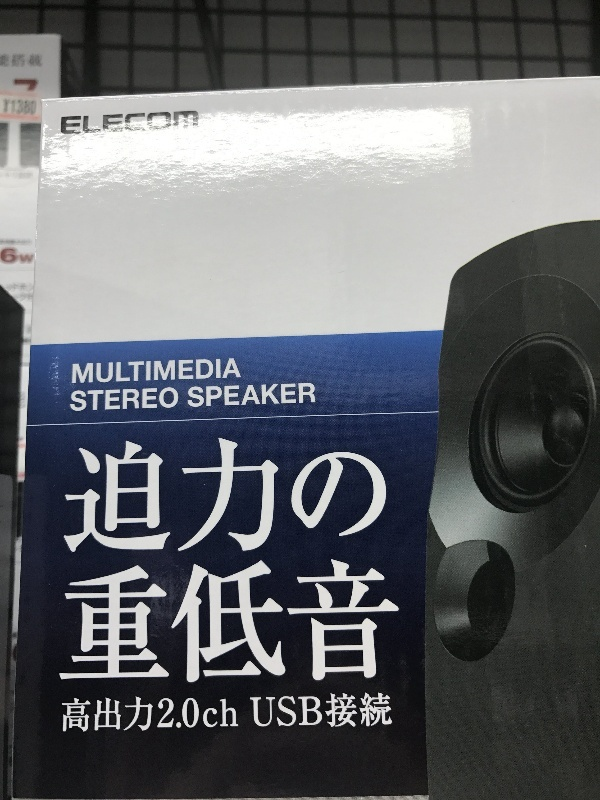text: (81, 552, 96, 691), (97, 552, 112, 691), (113, 552, 128, 691), (129, 552, 144, 691), (145, 552, 160, 691), (161, 552, 176, 691), (177, 552, 192, 691), (193, 552, 208, 691), (209, 552, 224, 691), (225, 552, 240, 691), (241, 552, 256, 691), (257, 552, 272, 691), (273, 552, 288, 691), (289, 552, 304, 691), (305, 552, 320, 691), (321, 552, 336, 691), (337, 552, 352, 691), (353, 552, 368, 691), (369, 552, 384, 691), (385, 552, 400, 691), (81, 438, 96, 562), (97, 438, 112, 562), (113, 438, 128, 562), (129, 438, 144, 562), (145, 438, 160, 562), (161, 438, 176, 562), (177, 438, 192, 562), (193, 438, 208, 562), (209, 438, 224, 562), (225, 438, 240, 562), (241, 438, 256, 562), (257, 438, 272, 562), (273, 438, 288, 562), (289, 438, 304, 562), (305, 438, 320, 562), (321, 438, 336, 562), (337, 438, 352, 562), (353, 438, 368, 562), (369, 438, 384, 562), (67, 552, 80, 691), (68, 438, 80, 562), (385, 438, 390, 562), (65, 695, 80, 736), (81, 695, 96, 736), (97, 695, 112, 736), (113, 695, 128, 736), (129, 695, 144, 736), (145, 695, 160, 736), (161, 695, 176, 736), (177, 695, 192, 736), (193, 695, 208, 736), (209, 695, 224, 736), (225, 695, 239, 736), (257, 693, 272, 727), (273, 693, 288, 727), (289, 693, 304, 727), (305, 693, 320, 727), (321, 693, 336, 727), (337, 693, 352, 727), (353, 693, 368, 727), (369, 693, 384, 727), (81, 358, 96, 385), (97, 358, 112, 385), (113, 358, 128, 385), (129, 358, 144, 385), (145, 358, 160, 385), (161, 358, 176, 385), (177, 358, 192, 385), (193, 358, 208, 385), (209, 358, 224, 385), (225, 358, 240, 385), (65, 111, 80, 136), (81, 111, 96, 136), (97, 111, 112, 136), (113, 111, 128, 136), (129, 111, 144, 136), (145, 111, 160, 136), (161, 111, 176, 136), (177, 111, 192, 136), (81, 388, 96, 412), (97, 388, 112, 412), (113, 388, 128, 412), (129, 388, 144, 412), (145, 388, 160, 412), (161, 388, 176, 412), (193, 384, 208, 407), (209, 384, 224, 407), (225, 384, 240, 407), (241, 384, 256, 407), (257, 384, 272, 407), (273, 384, 288, 407), (289, 384, 304, 407), (1, 247, 16, 267), (17, 247, 32, 267), (18, 390, 32, 410), (305, 384, 317, 407), (17, 99, 32, 117), (1, 53, 16, 70), (17, 53, 32, 70), (385, 693, 392, 727), (3, 99, 16, 117), (72, 358, 80, 385), (71, 388, 80, 412), (17, 291, 33, 304), (250, 693, 256, 727), (33, 53, 43, 70), (1, 282, 16, 293), (17, 282, 32, 293), (193, 111, 199, 136), (401, 552, 402, 691), (18, 435, 32, 442), (188, 384, 192, 407), (33, 99, 38, 117), (20, 362, 32, 369), (62, 695, 64, 736), (61, 111, 64, 136), (26, 324, 32, 336), (11, 291, 16, 304), (177, 388, 179, 412), (33, 247, 35, 267), (241, 358, 242, 385), (33, 282, 34, 293)
